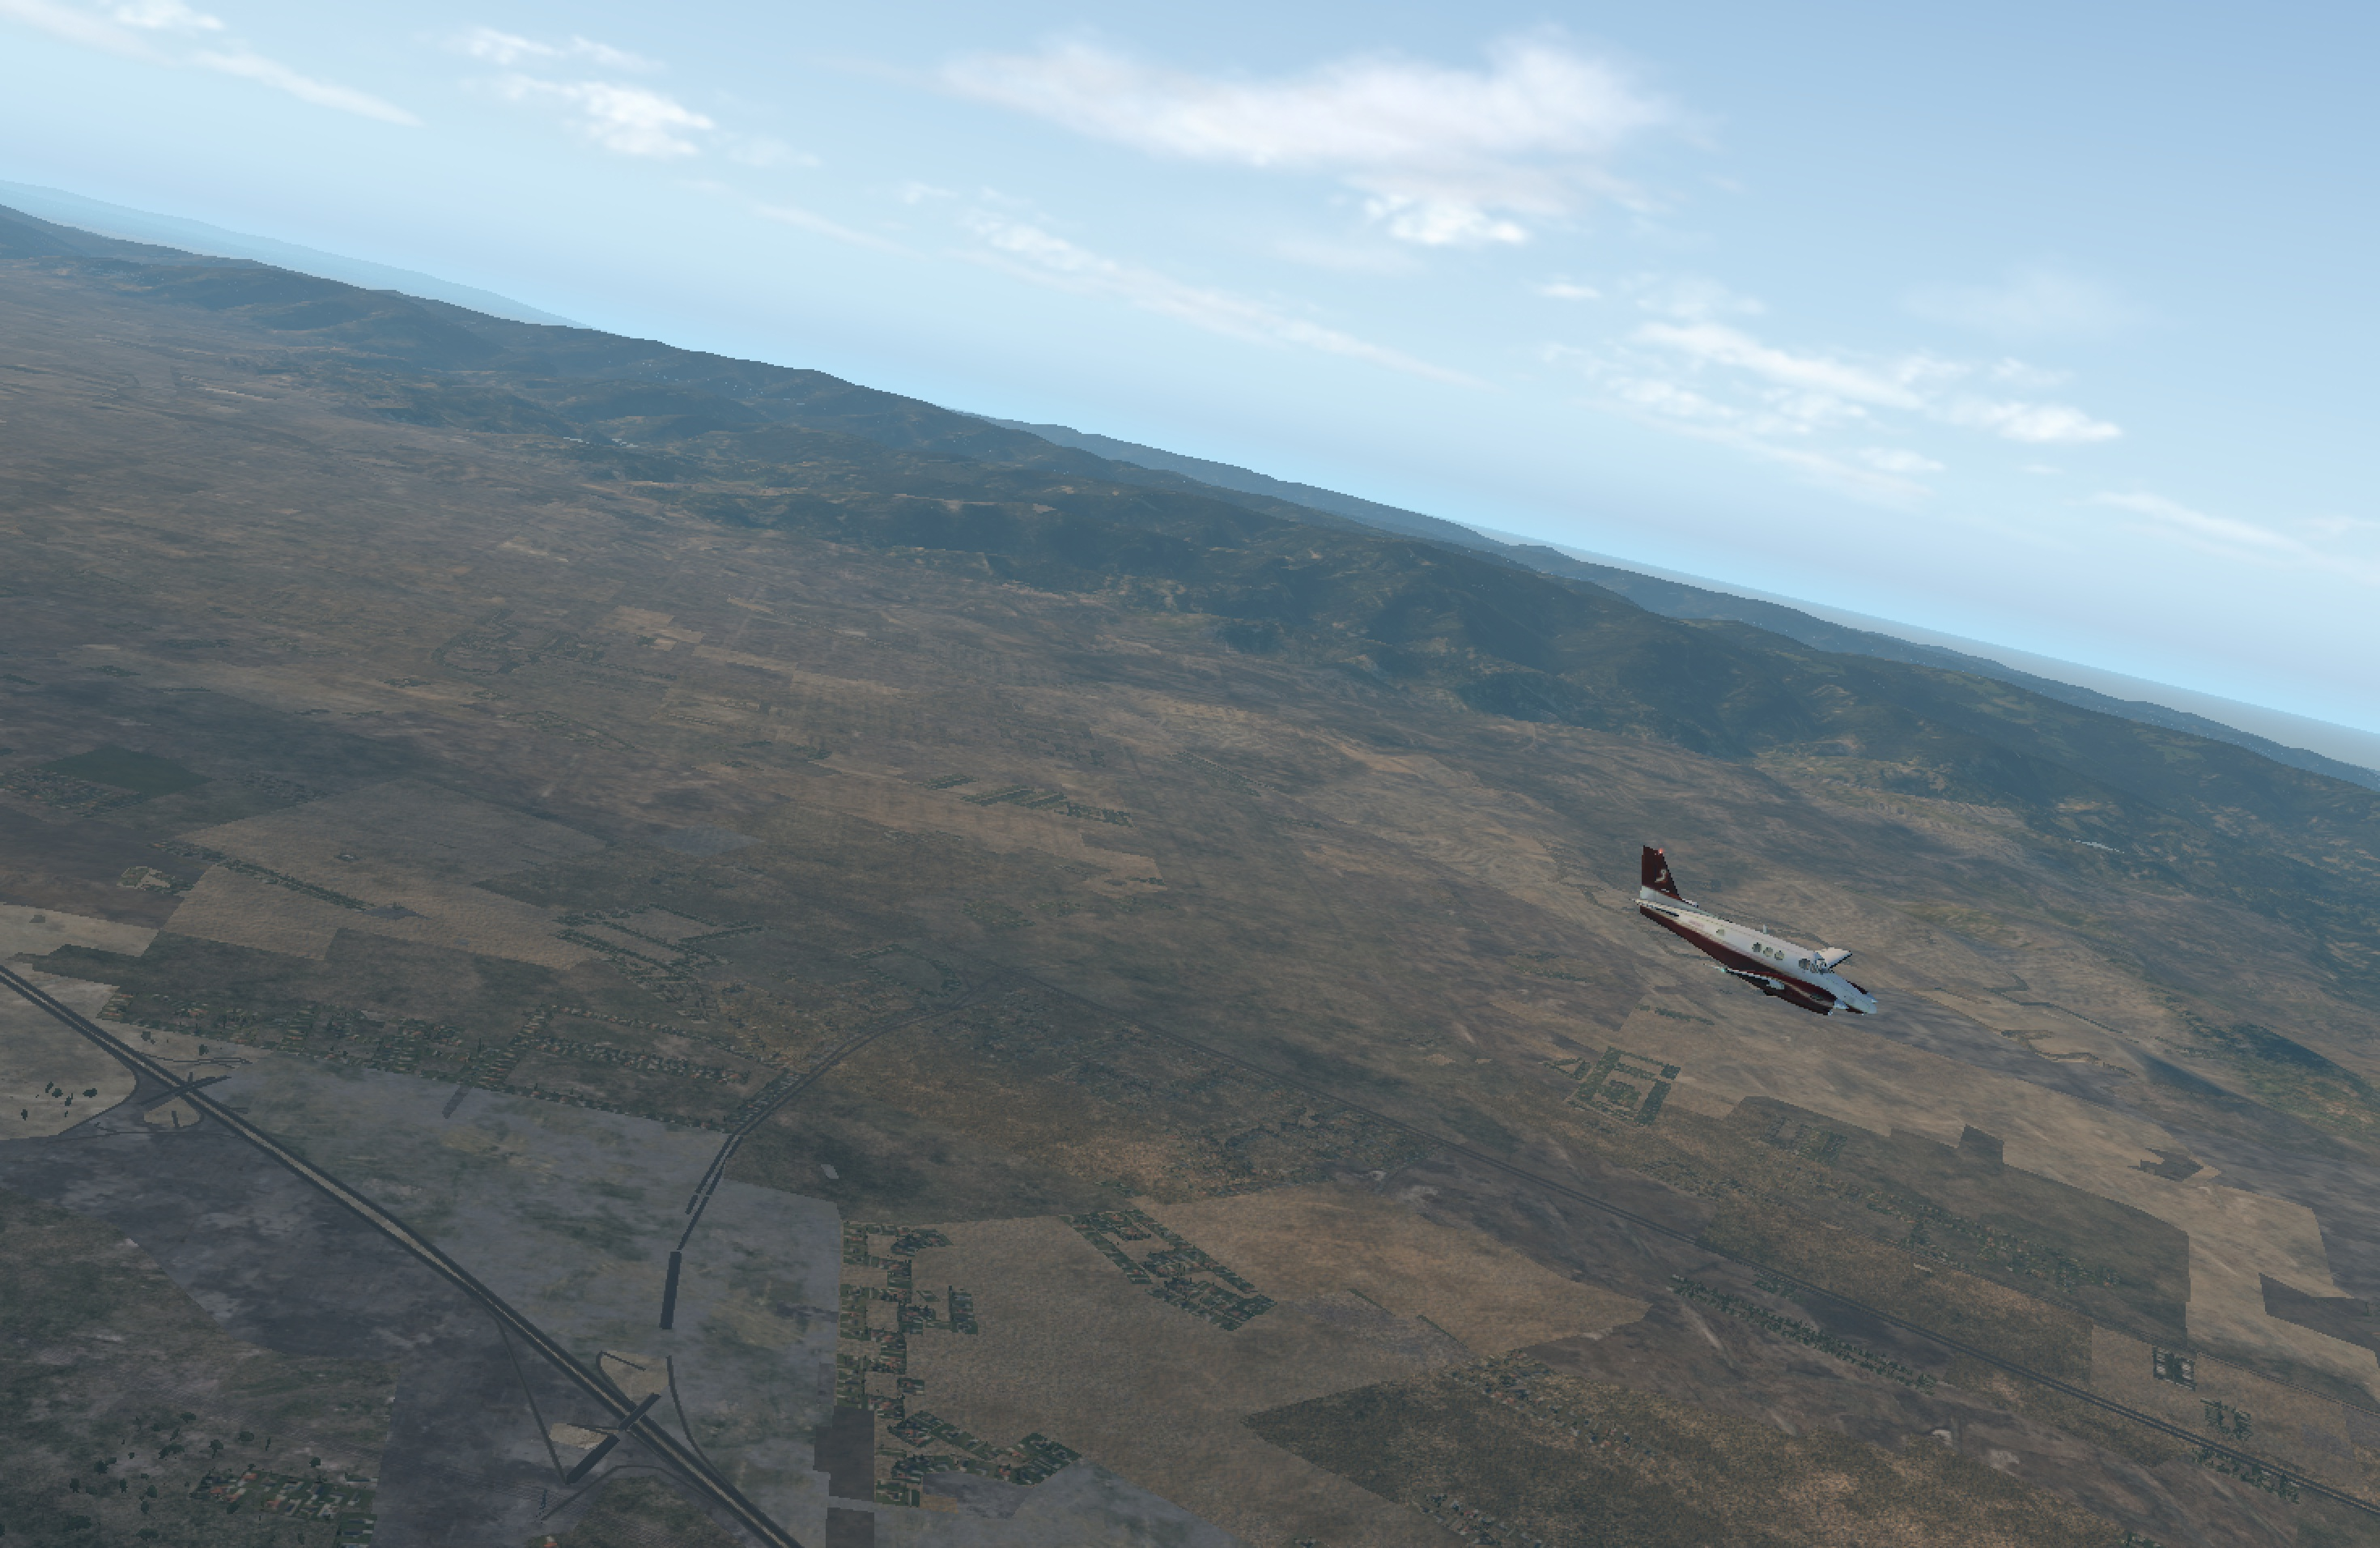aircraft: (1592, 915, 1981, 1060)
